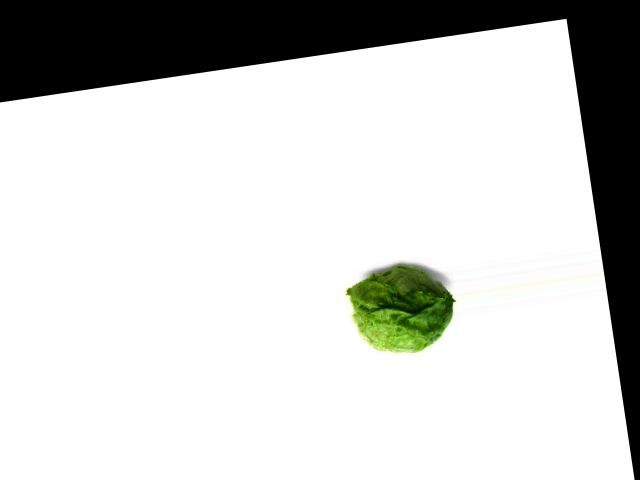lettuce: (344, 253, 460, 367)
